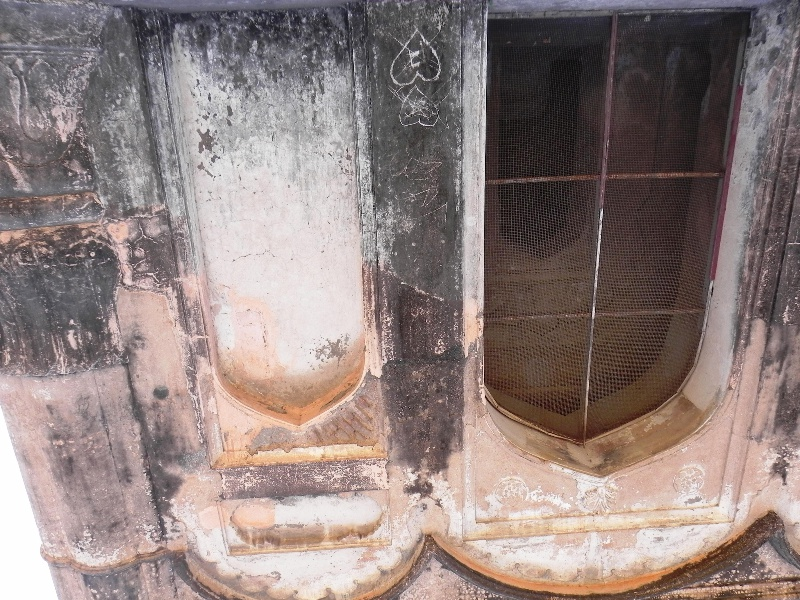Spalling: (291, 368, 390, 455)
